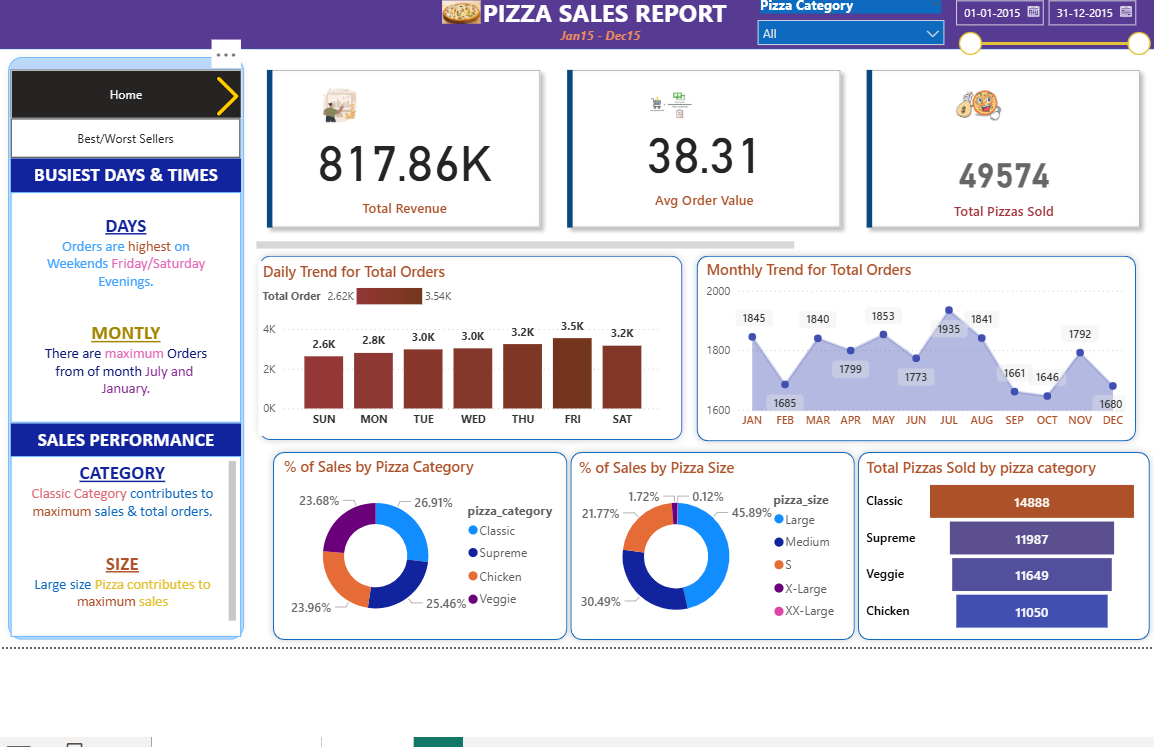

Layout of this report page (visuals, bound fields, positions):
{"tool":"powerbi","page":{"name":"Home","canvas":[1280,720],"ordinal":1},"visuals":[{"type":"shape","box":[0,0,1500.3,64.3],"z":0},{"type":"cardVisual","fields":{"Data":["pizza_sales.Total Revenue","pizza_sales.Avg Order Value","pizza_sales.Total Pizzas Sold","pizza_sales.Total Order","pizza_sales.Avg Pizzas per Order"]},"box":[285.4,70,994.9,220.9],"z":1000},{"type":"shape","box":[9.8,64.8,275.1,655.4],"z":2000},{"type":"image","box":[335.1,6.1,360.7,35.5],"z":3000},{"type":"slicer","fields":{"Values":["pizza_sales.pizza_category"]},"box":[830.3,0,225,59.9],"z":4000},{"type":"slicer","fields":{"Values":["pizza_sales.order_date"]},"box":[1045.6,0,234.6,86.4],"z":5000},{"type":"textbox","box":[533.2,0,295.9,46.5],"z":6000},{"type":"textbox","box":[618.8,34.2,107.6,30.6],"z":7000},{"type":"textbox","box":[20.8,474.5,253.1,36.7],"z":8000},{"type":"textbox","box":[20.8,221.3,253.1,253.1],"z":9000},{"type":"textbox","box":[20.8,511.1,253.1,198.1],"z":10000},{"type":"textbox","box":[20.8,183.4,253.1,36.7],"z":11000},{"type":"pageNavigator","box":[20.6,86.4,253.9,53.5],"z":12000},{"type":"pageNavigator","box":[20.6,140,252.5,43.9],"z":13000},{"type":"shape","box":[285.4,282.7,480.3,218.2],"z":14000},{"type":"columnChart","title":"Daily Trend for Total Orders","fields":{"Category":["pizza_sales.Order Day"],"Y":["pizza_sales.Total Order"]},"box":[292.3,296.4,448.7,192.1],"z":15000},{"type":"shape","box":[765.7,282.7,498.1,219.6],"z":16000},{"type":"areaChart","title":"Monthly Trend for Total Orders","fields":{"Category":["pizza_sales.Order Month"],"Y":["pizza_sales.Total Order"]},"box":[779.4,293.7,470.7,196.2],"z":17000},{"type":"shape","box":[300.5,498.1,338.9,222.3],"z":18000},{"type":"shape","box":[627.1,498.1,328,222.3],"z":19000},{"type":"shape","box":[942.7,498.1,336.2,222.3],"z":20000},{"type":"donutChart","title":"% of Sales by Pizza  Category","fields":{"Category":["pizza_sales.pizza_category"],"Y":["pizza_sales.Total Revenue"]},"box":[315.6,510.5,311.5,197.6],"z":21000},{"type":"donutChart","title":"% of Sales by Pizza Size","fields":{"Y":["pizza_sales.Total Revenue"],"Category":["pizza_sales.pizza_size"]},"box":[639.5,511.8,303.3,196.2],"z":22000},{"type":"funnel","title":"Total Pizzas Sold by pizza category","fields":{"Category":["pizza_sales.pizza_category"],"Y":["pizza_sales.Total Pizzas Sold"]},"box":[955.1,511.8,308.7,196.2],"z":23000},{"type":"image","box":[231.9,5.5,53.5,219.6],"z":24000}]}

Visuals, with their boxes on the page's 1280x720 design canvas (x1, y1, x2, y2). These are canvas units, not pixel positions in the 1154x747 screenshot, which may show the page scaled, cropped or inside an application window:
shape: [0, 0, 1500, 64]
cardVisual - pizza_sales.Total Revenue x pizza_sales.Avg Order Value: [285, 70, 1280, 291]
shape: [10, 65, 285, 720]
image: [335, 6, 696, 42]
slicer - pizza_sales.pizza_category: [830, 0, 1055, 60]
slicer - pizza_sales.order_date: [1046, 0, 1280, 86]
textbox: [533, 0, 829, 46]
textbox: [619, 34, 726, 65]
textbox: [21, 474, 274, 511]
textbox: [21, 221, 274, 474]
textbox: [21, 511, 274, 709]
textbox: [21, 183, 274, 220]
pageNavigator: [21, 86, 274, 140]
pageNavigator: [21, 140, 273, 184]
shape: [285, 283, 766, 501]
"Daily Trend for Total Orders" columnChart: [292, 296, 741, 488]
shape: [766, 283, 1264, 502]
"Monthly Trend for Total Orders" areaChart: [779, 294, 1250, 490]
shape: [300, 498, 639, 720]
shape: [627, 498, 955, 720]
shape: [943, 498, 1279, 720]
"% of Sales by Pizza  Category" donutChart: [316, 510, 627, 708]
"% of Sales by Pizza Size" donutChart: [640, 512, 943, 708]
"Total Pizzas Sold by pizza category" funnel: [955, 512, 1264, 708]
image: [232, 6, 285, 225]
